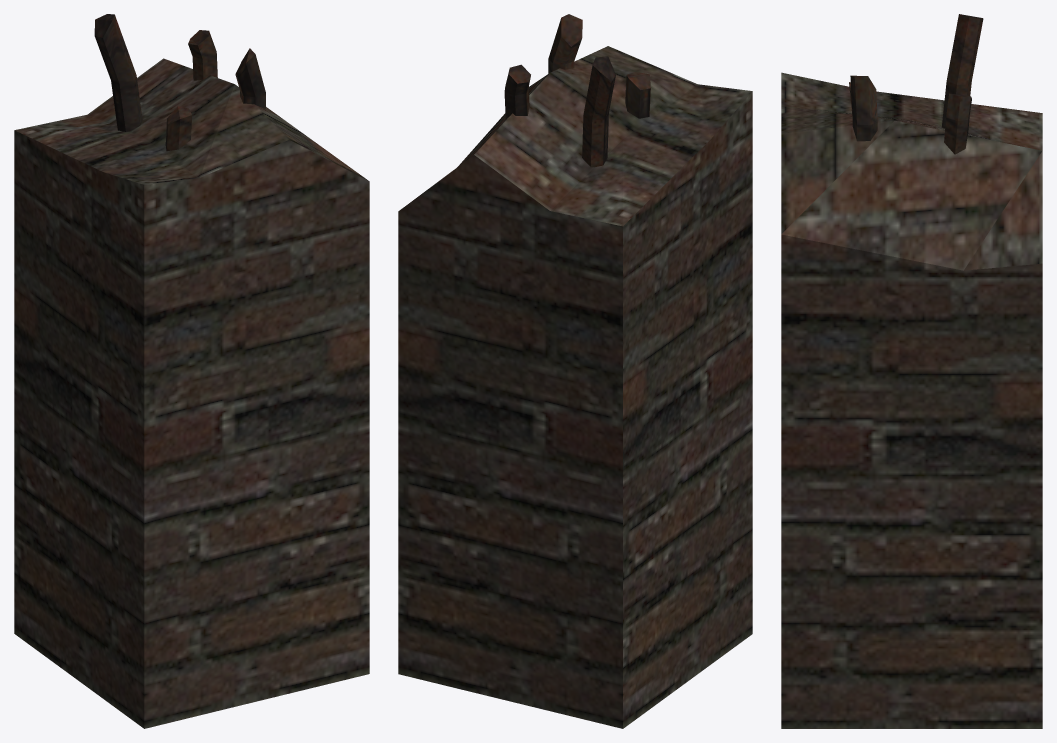
File: pillar_hs_1_broken.obj
The picture shows the model from 3 angles, left to right: view 1: azimuth 30°, elevation 25°; view 2: azimuth 150°, elevation 25°; view 3: azimuth 270°, elevation 25°; orthographic projection.
Visible parts, largest first — view 1: pillar_hs_1_broken; view 2: pillar_hs_1_broken; view 3: pillar_hs_1_broken.
Part boxes in pixels (x1,y1,x2,y2): pillar_hs_1_broken: [14, 14, 369, 728]; pillar_hs_1_broken: [398, 14, 752, 728]; pillar_hs_1_broken: [781, 14, 1042, 728].
Size of the model in its own units: 0.6 by 1.6 by 0.6.
